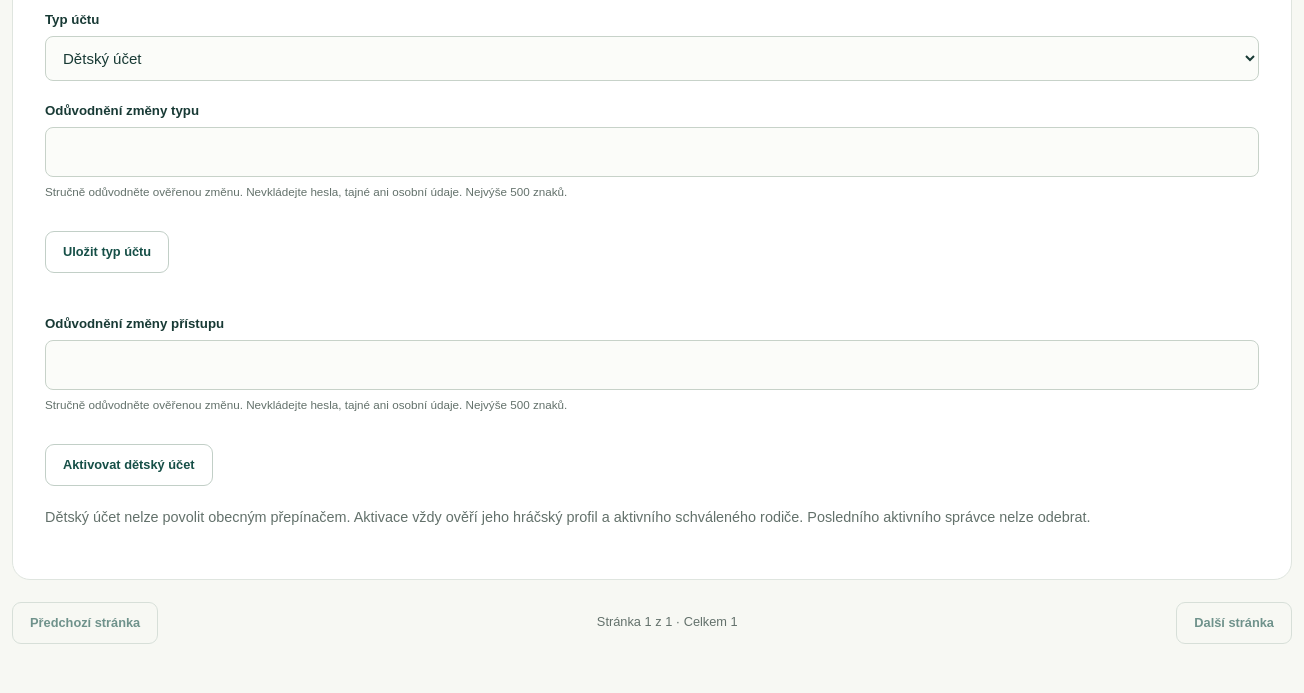
P3 formuláře a omezení › CHILD se aktivuje samostatným endpointem, nikoli obecným enabled PATCH
(page scrolled)
Step 1. Type "Rodič ověřen" into the field labelled "Odůvodnění změny přístupu" → (652, 365), box [45,340,1259,390]
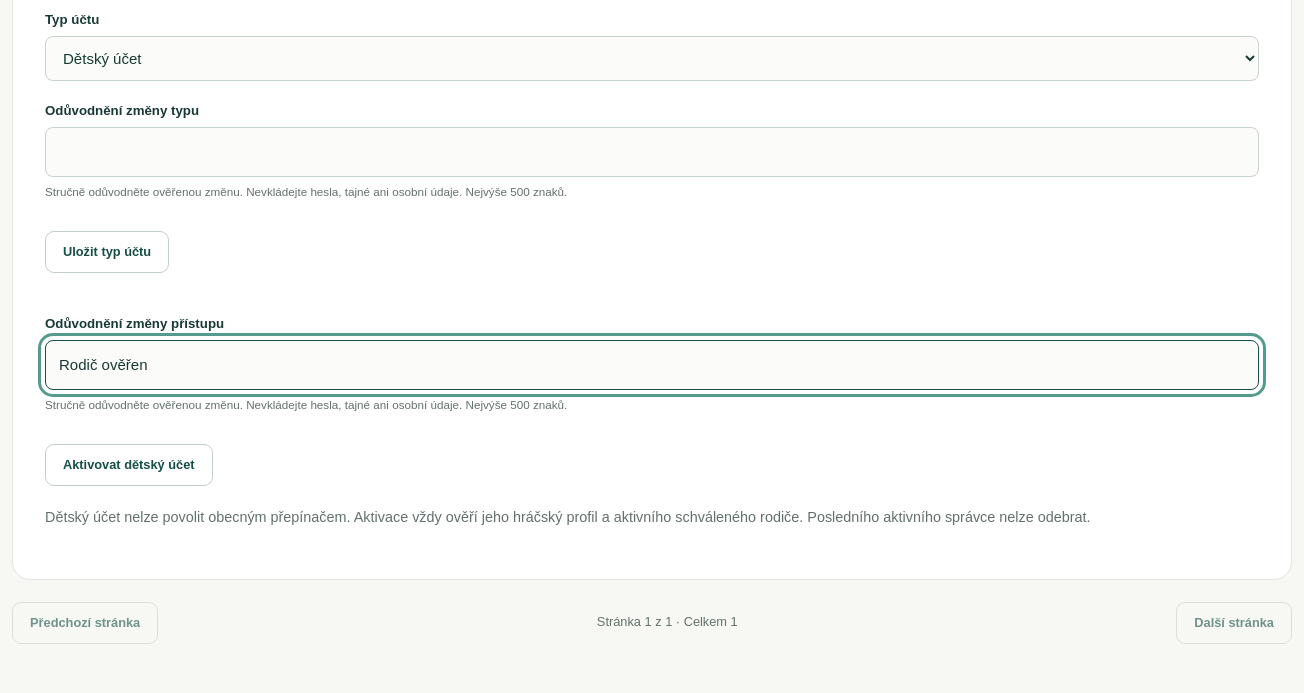
Step 2. Click the button "Aktivovat dětský účet" → click(129, 465), box [45,444,213,486]
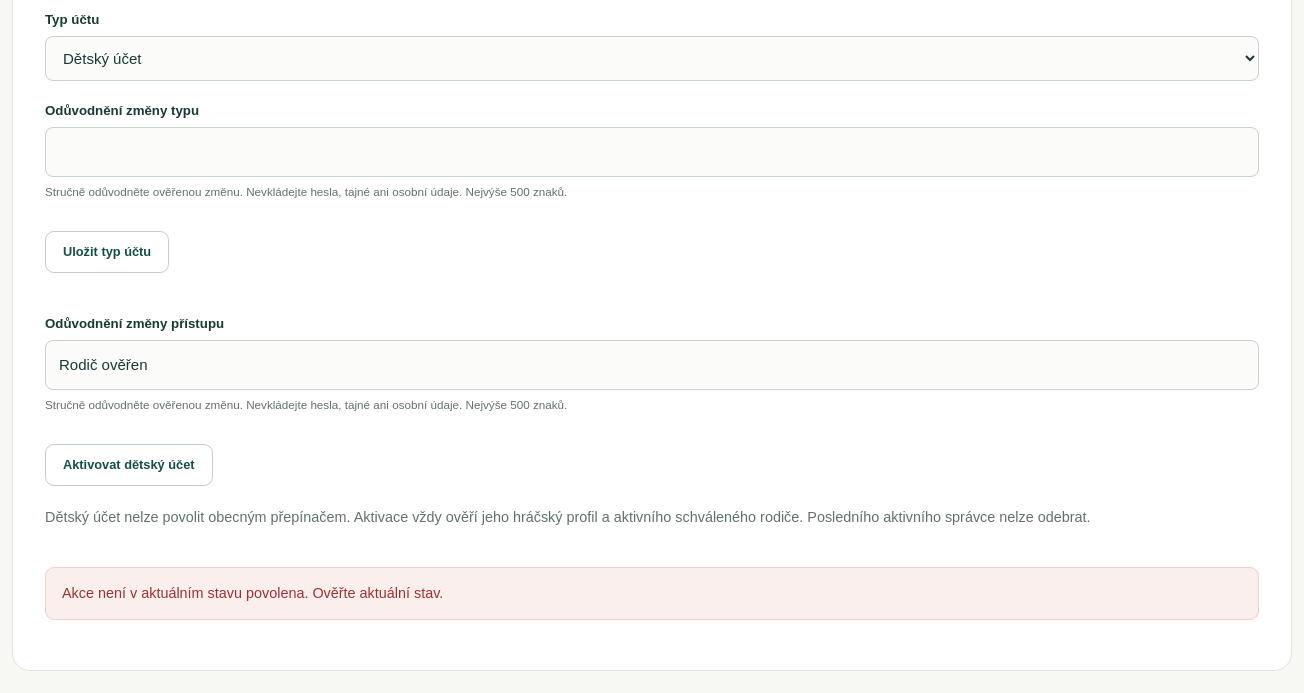
Expected: the message "Akce není v aktuálním stavu povolena. Ověřte aktuální stav." is shown, [45,567,1259,620]
